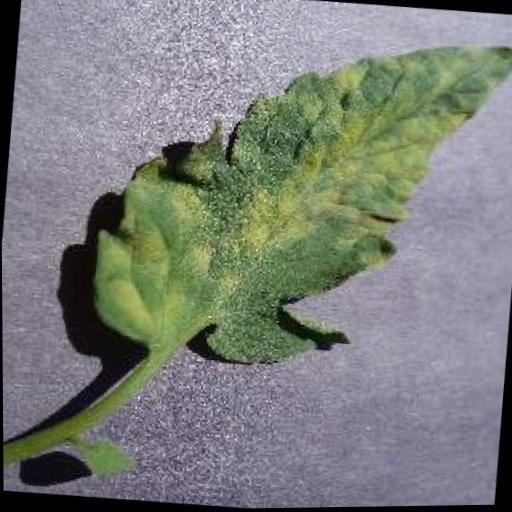Leaf Mold: (86, 10, 512, 388)
